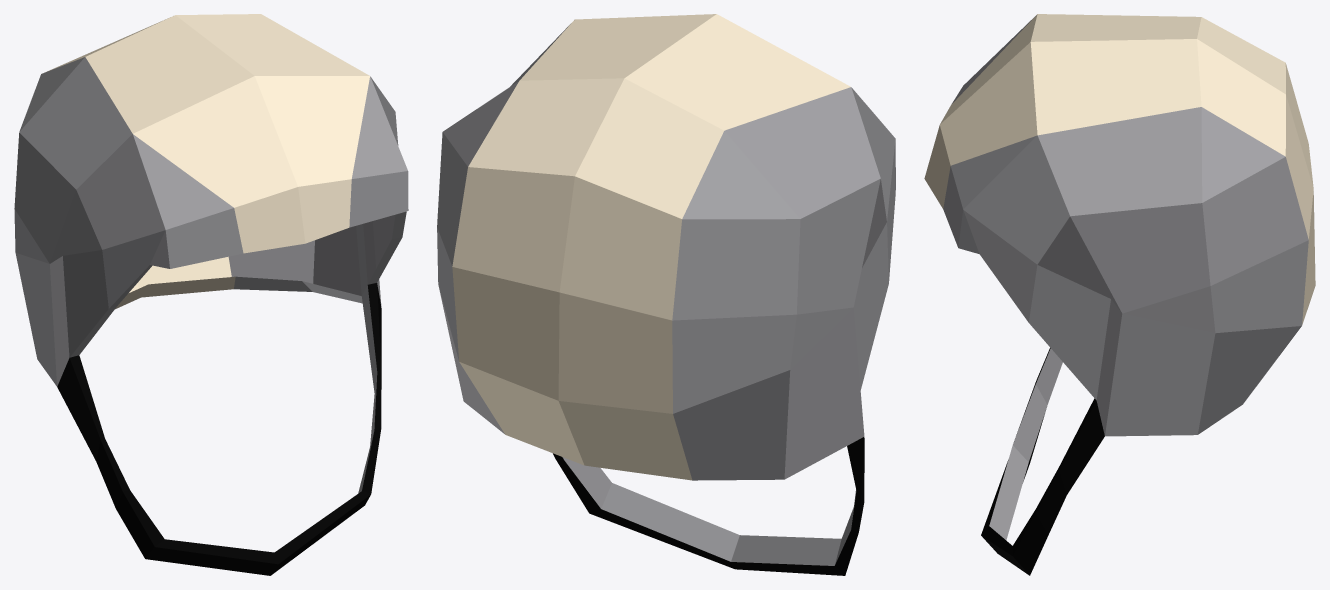
Rendered from Snowboarder_2_Helmet.fbx.
The picture shows the model from 3 angles, left to right: view 1: azimuth 30°, elevation 25°; view 2: azimuth 150°, elevation 25°; view 3: azimuth 270°, elevation 25°; orthographic projection. The views are drawn at different scales.
Visible parts, largest first — view 1: Snowboarder_2_Helmet; view 2: Snowboarder_2_Helmet; view 3: Snowboarder_2_Helmet.
Boxes of the visible parts, bbox=[...] form: Snowboarder_2_Helmet: bbox=[14, 14, 408, 575]; Snowboarder_2_Helmet: bbox=[437, 14, 895, 575]; Snowboarder_2_Helmet: bbox=[924, 14, 1315, 575].
Size of the model in its own units: 22.4 by 32.43 by 22.33.
